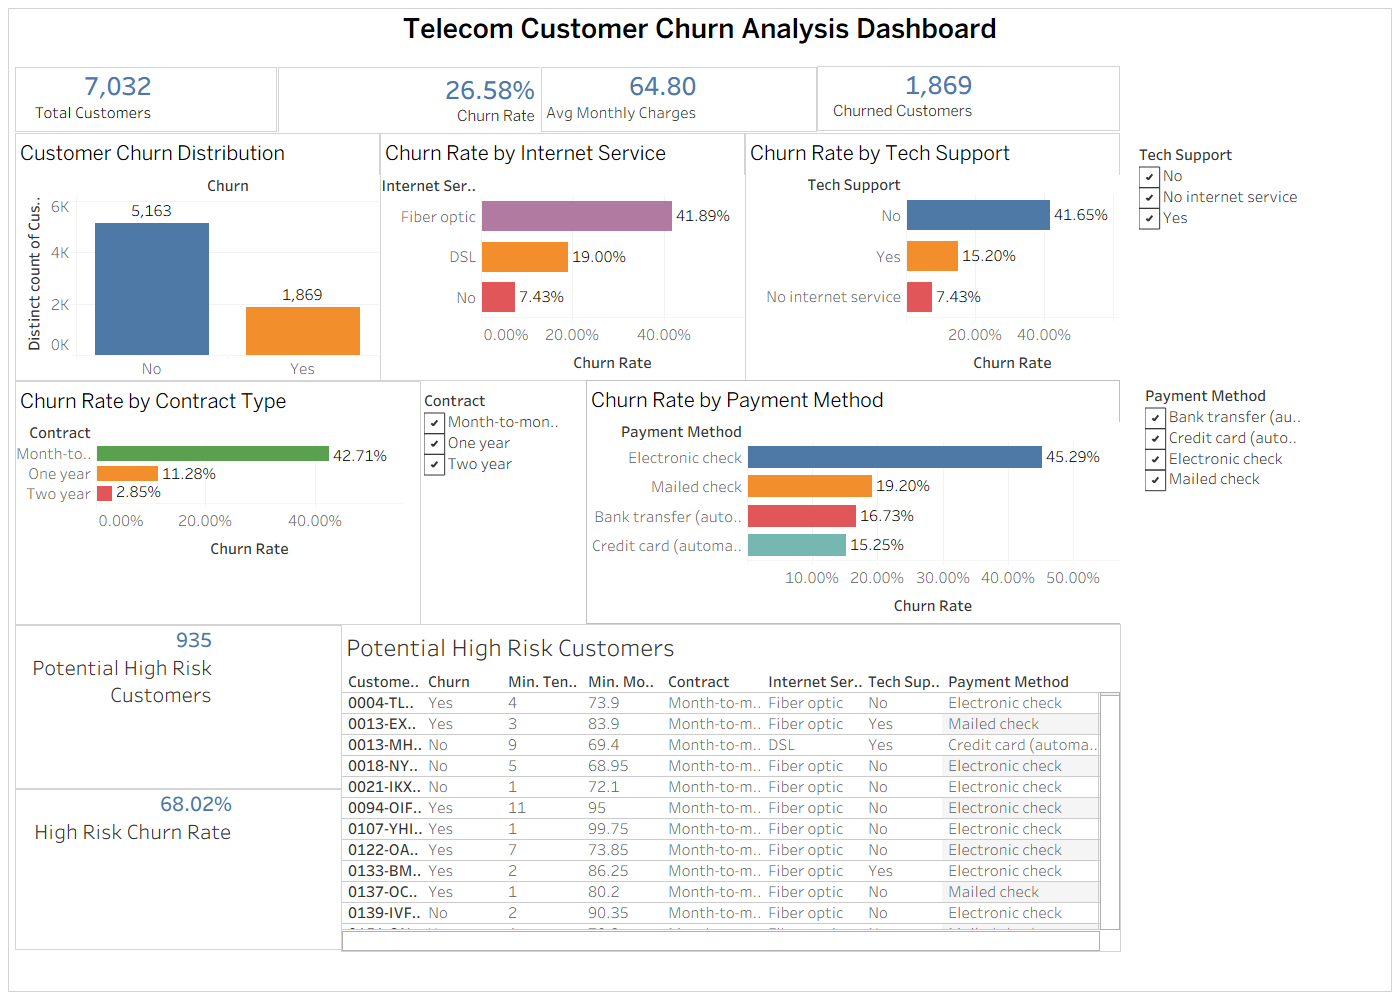

Layout of this report page (visuals, bound fields, positions):
{"tool":"tableau","page":{"name":"Dashboard 1","canvas":[1400,1000],"ordinal":0},"visuals":[{"type":"title","box":[8,8,1384,41]},{"type":"worksheet","title":"KPI - Churned Customers","mark":"Automatic","box":[907,67,198,65]},{"type":"worksheet","title":"KPI - Total Customers","mark":"Automatic","box":[15,70,201,63]},{"type":"worksheet","title":"KPI - Avg Monthly Charges","mark":"Automatic","box":[595,70,200,64]},{"type":"worksheet","title":"KPI - Churn Rate","mark":"Automatic","box":[296,72,200,64]},{"type":"worksheet","title":"Chart - Churn by Tech Support","mark":"Automatic","rows":["TechSupport"],"cols":["Calculation_0616024399224833"],"box":[736,143,371,248]},{"type":"worksheet","title":"Chart - Churn by Internet Service","mark":"Bar","rows":["InternetService"],"cols":["Calculation_0616024399224833"],"box":[360,144,365,248]},{"type":"filter","title":"Chart - Churn by Tech Support","param":"[federated.0v0dixa1ptfdkq1fwr7xb09em5m9].[none:TechSupport:nk]","box":[1117,144,160,120]},{"type":"worksheet","title":"Chart - Churn Distribution","mark":"Bar","rows":["customerID"],"cols":["Churn"],"box":[15,145,334,248]},{"type":"worksheet","title":"Chart - Churn by Contract","mark":"Automatic","rows":["Contract"],"cols":["Calculation_0616024399224833"],"box":[16,408,406,242]},{"type":"worksheet","title":"Chart - Churn by Payment Method","mark":"Automatic","rows":["PaymentMethod"],"cols":["Calculation_0616024399224833"],"box":[571,409,534,238]},{"type":"filter","title":"Chart - Churn by Payment Method","param":"[federated.0v0dixa1ptfdkq1fwr7xb09em5m9].[none:PaymentMethod:nk]","box":[1119,410,160,143]},{"type":"filter","title":"Chart - Churn by Contract","param":"[federated.0v0dixa1ptfdkq1fwr7xb09em5m9].[none:Contract:nk]","box":[426,411,136,240]},{"type":"worksheet","title":"KPI - Potential High Risk","mark":"Automatic","box":[16,666,327,113]},{"type":"worksheet","title":"Table - Potential High Risk Customers","mark":"Automatic","rows":["customerID","Churn","tenure","MonthlyCharges","Contract","InternetService","TechSupport","PaymentMethod"],"box":[355,666,1014,328]},{"type":"worksheet","title":"KPI - High Risk Churn Rate","mark":"Automatic","box":[17,805,325,112]}]}

Visuals, with their boxes in screenshot pixels (x1, y1, x2, y2), scaled from the page's 1400x1000 canvas onto the 1400x1000 screenshot:
title: detection(8, 8, 1392, 49)
"KPI - Churned Customers" worksheet: detection(907, 67, 1105, 132)
"KPI - Total Customers" worksheet: detection(15, 70, 216, 133)
"KPI - Avg Monthly Charges" worksheet: detection(595, 70, 795, 134)
"KPI - Churn Rate" worksheet: detection(296, 72, 496, 136)
"Chart - Churn by Tech Support" worksheet: detection(736, 143, 1107, 391)
"Chart - Churn by Internet Service" worksheet (Bar marks): detection(360, 144, 725, 392)
"Chart - Churn by Tech Support" filter: detection(1117, 144, 1277, 264)
"Chart - Churn Distribution" worksheet (Bar marks): detection(15, 145, 349, 393)
"Chart - Churn by Contract" worksheet: detection(16, 408, 422, 650)
"Chart - Churn by Payment Method" worksheet: detection(571, 409, 1105, 647)
"Chart - Churn by Payment Method" filter: detection(1119, 410, 1279, 553)
"Chart - Churn by Contract" filter: detection(426, 411, 562, 651)
"KPI - Potential High Risk" worksheet: detection(16, 666, 343, 779)
"Table - Potential High Risk Customers" worksheet: detection(355, 666, 1369, 994)
"KPI - High Risk Churn Rate" worksheet: detection(17, 805, 342, 917)
